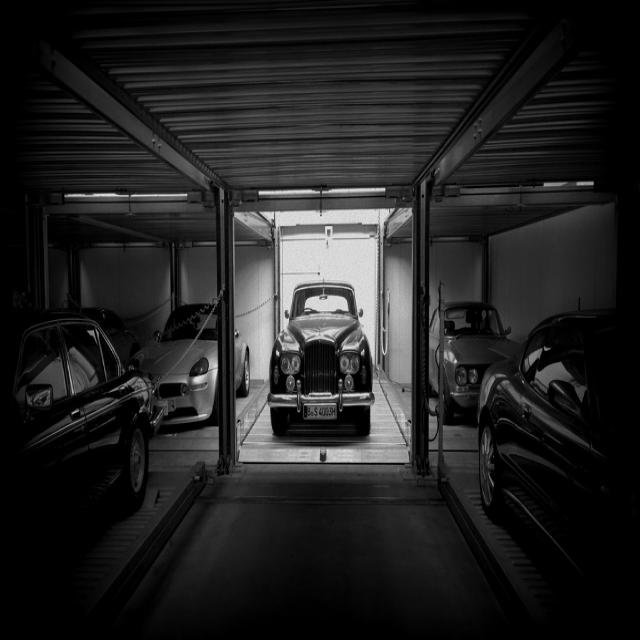car: (266, 271, 375, 440)
